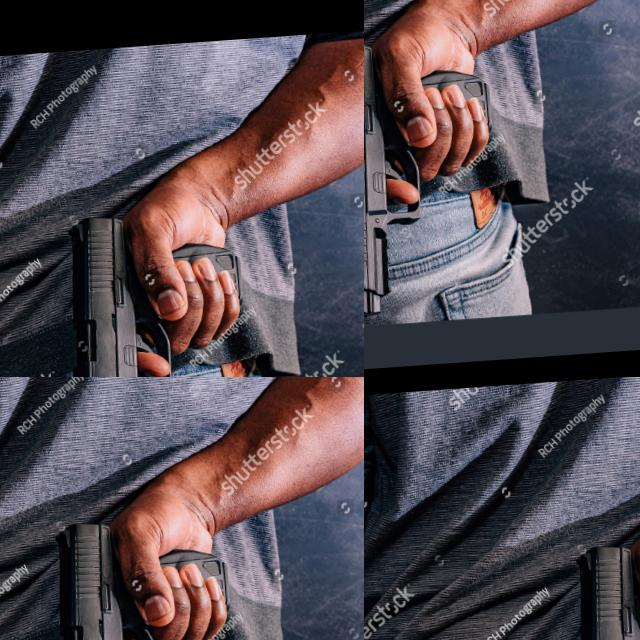handgun: (12, 126, 364, 377), (0, 377, 143, 640), (556, 536, 640, 640), (364, 0, 387, 16)
